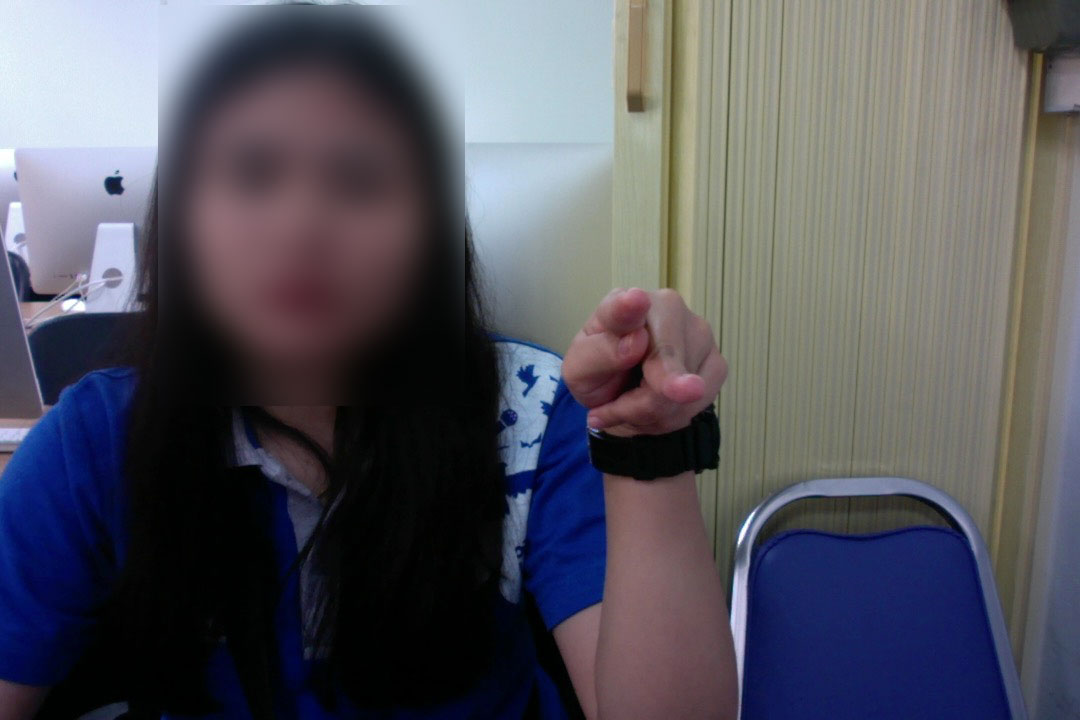por: (550, 272, 735, 446)
